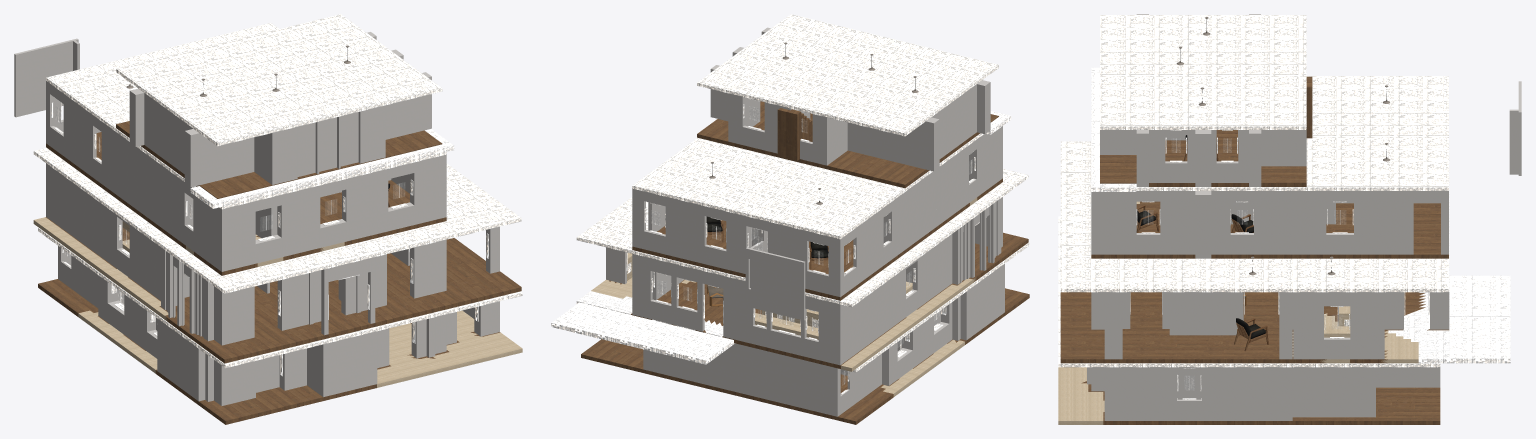
File: a1-building-look.glb
3 views of the same model, side by side, from view 1: azimuth 30°, elevation 25°; view 2: azimuth 150°, elevation 25°; view 3: azimuth 270°, elevation 25° (orthographic). The views are drawn at different scales.
Visible parts, largest first — view 1: storey_a1, storey_a2, storey_a0, storey_a3_ceiling, storey_a3, storey_a1_ceiling, storey_a2_ceiling, storey_a0_ceiling; view 2: storey_a1, storey_a2, storey_a3_ceiling, storey_a0, storey_a3, storey_a2_ceiling, storey_a1_ceiling, storey_a0_ceiling; view 3: storey_a1, storey_a2, storey_a3_ceiling, storey_a0, storey_a1_ceiling, storey_a2_ceiling, storey_a3, storey_a0_ceiling, HV_FURN_storey_a1_02_modern_arm_chair_01_00.
Part boxes in pixels (bbox=[...]): storey_a1: bbox=[33, 163, 521, 363]; storey_a2: bbox=[14, 38, 446, 275]; storey_a0: bbox=[38, 246, 522, 424]; storey_a3_ceiling: bbox=[116, 14, 442, 146]; storey_a3: bbox=[116, 32, 454, 208]; storey_a1_ceiling: bbox=[33, 147, 521, 293]; storey_a2_ceiling: bbox=[46, 23, 446, 209]; storey_a0_ceiling: bbox=[38, 227, 522, 368]; storey_a1: bbox=[551, 197, 1028, 371]; storey_a2: bbox=[632, 126, 1002, 320]; storey_a3_ceiling: bbox=[697, 14, 998, 136]; storey_a0: bbox=[581, 264, 1029, 424]; storey_a3: bbox=[697, 27, 1011, 188]; storey_a2_ceiling: bbox=[632, 133, 983, 239]; storey_a1_ceiling: bbox=[576, 169, 1028, 307]; storey_a0_ceiling: bbox=[852, 242, 1029, 372]; storey_a1: bbox=[1060, 275, 1510, 363]; storey_a2: bbox=[1091, 81, 1521, 258]; storey_a3_ceiling: bbox=[1100, 15, 1306, 129]; storey_a0: bbox=[1058, 367, 1440, 424]; storey_a1_ceiling: bbox=[1060, 141, 1449, 292]; storey_a2_ceiling: bbox=[1136, 76, 1448, 190]; storey_a3: bbox=[1091, 14, 1312, 191]; storey_a0_ceiling: bbox=[1058, 216, 1440, 367]; HV_FURN_storey_a1_02_modern_arm_chair_01_00: bbox=[1234, 318, 1268, 350].
Size of the model in its own units: 12.13 by 10.91 by 16.08.
20 materials, 12 textured.
